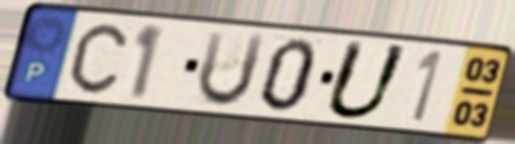0: (257, 36, 321, 114)
1: (130, 21, 166, 102), (411, 49, 446, 126)
C: (67, 21, 130, 96)
U: (320, 37, 414, 123), (194, 28, 269, 110)
